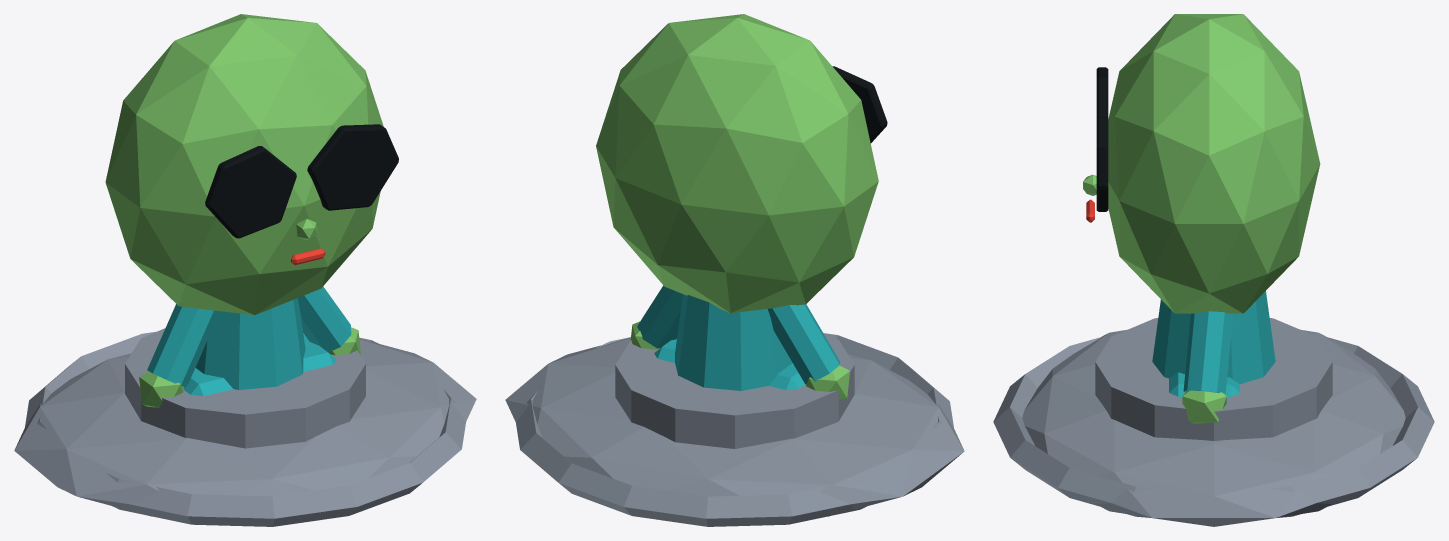
The model's file is alien.glb.
The picture shows the model from 3 angles, left to right: view 1: azimuth 30°, elevation 25°; view 2: azimuth 150°, elevation 25°; view 3: azimuth 270°, elevation 25°; orthographic projection.
Visible parts, largest first — view 1: alien-huge-gray-head, alien-silver-saucer, alien-saucer-dome, alien-saucer-rim, alien-tiny-teal-torso, alien-right-black-almond-eye, alien-left-black-almond-eye, alien-left-arm, alien-right-arm, alien-left-hand, alien-left-foot, alien-right-foot; view 2: alien-huge-gray-head, alien-silver-saucer, alien-saucer-dome, alien-saucer-rim, alien-tiny-teal-torso, alien-left-arm, alien-right-arm, alien-left-black-almond-eye, alien-left-hand, alien-left-foot; view 3: alien-huge-gray-head, alien-silver-saucer, alien-saucer-dome, alien-saucer-rim, alien-tiny-teal-torso, alien-right-arm, alien-right-black-almond-eye, alien-right-hand, alien-left-black-almond-eye, alien-right-foot.
Boxes of the visible parts, <box> form: alien-huge-gray-head: <box>105,14,383,315</box>; alien-silver-saucer: <box>14,338,476,516</box>; alien-saucer-dome: <box>125,328,365,448</box>; alien-saucer-rim: <box>25,331,465,526</box>; alien-tiny-teal-torso: <box>195,298,305,389</box>; alien-right-black-almond-eye: <box>307,124,398,210</box>; alien-left-black-almond-eye: <box>205,146,296,238</box>; alien-left-arm: <box>147,304,215,387</box>; alien-right-arm: <box>298,286,351,352</box>; alien-left-hand: <box>139,371,183,407</box>; alien-left-foot: <box>184,368,232,396</box>; alien-right-foot: <box>303,335,336,371</box>; alien-huge-gray-head: <box>596,14,878,313</box>; alien-silver-saucer: <box>505,337,964,516</box>; alien-saucer-dome: <box>615,333,854,448</box>; alien-saucer-rim: <box>516,333,953,526</box>; alien-tiny-teal-torso: <box>675,294,792,390</box>; alien-left-arm: <box>767,304,839,384</box>; alien-right-arm: <box>637,285,682,348</box>; alien-left-black-almond-eye: <box>832,66,887,143</box>; alien-left-hand: <box>806,365,849,400</box>; alien-left-foot: <box>769,363,804,389</box>; alien-huge-gray-head: <box>1108,14,1320,313</box>; alien-silver-saucer: <box>1022,330,1405,526</box>; alien-saucer-dome: <box>1095,318,1332,440</box>; alien-saucer-rim: <box>993,337,1434,517</box>; alien-tiny-teal-torso: <box>1152,291,1275,384</box>; alien-right-arm: <box>1183,311,1233,394</box>; alien-right-black-almond-eye: <box>1096,117,1108,211</box>; alien-right-hand: <box>1182,390,1226,423</box>; alien-left-black-almond-eye: <box>1096,67,1108,118</box>; alien-right-foot: <box>1169,372,1239,396</box>.
Bounding box in the file's own units: 0.9399 × 1 × 0.9118.
